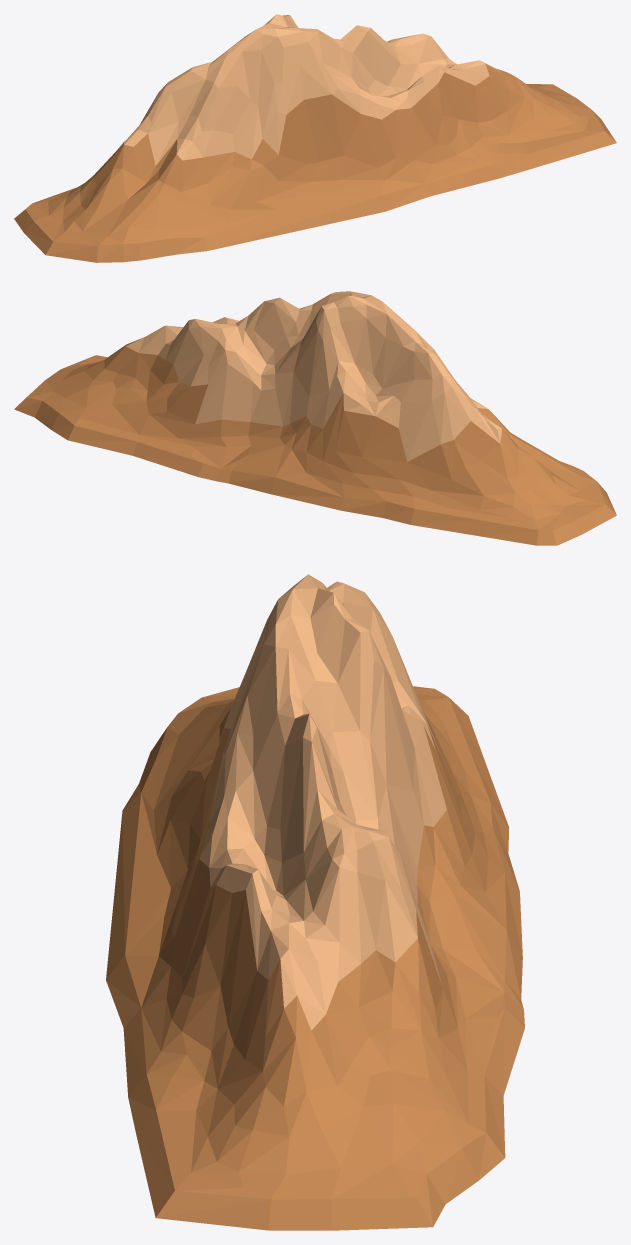
File: mountain_5.fbx
The picture shows the model from 3 angles, top to bottom: view 1: azimuth 30°, elevation 25°; view 2: azimuth 150°, elevation 25°; view 3: azimuth 270°, elevation 25°; orthographic projection. The views are drawn at different scales.
Parts seen in each view (by area): view 1: mountain_5; view 2: mountain_5; view 3: mountain_5.
Part boxes in pixels (<box>): mountain_5: <box>14,14,616,262</box>; mountain_5: <box>14,291,616,545</box>; mountain_5: <box>106,574,524,1230</box>.
Bounding box in the file's own units: 8251 × 2388 × 2691.
